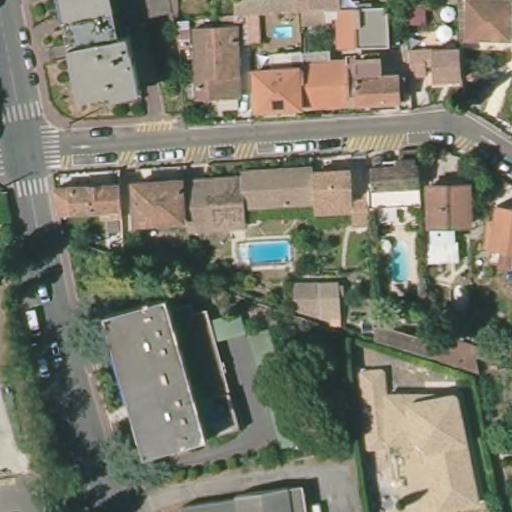pool: (234, 234, 295, 271), (386, 236, 417, 283), (271, 24, 297, 43)
